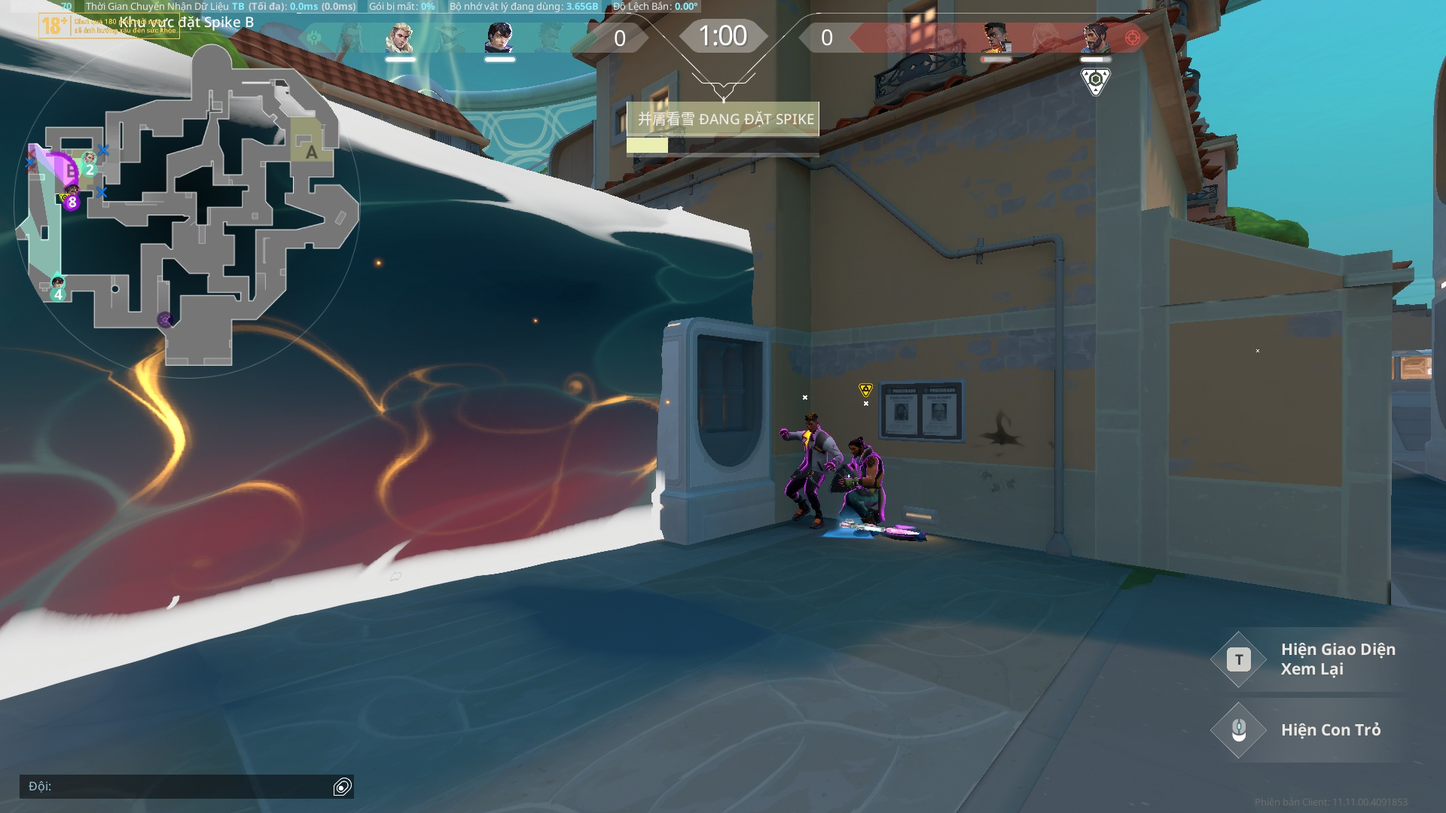body: (850, 454, 890, 490), (797, 429, 832, 470)
head: (847, 440, 868, 458), (804, 413, 821, 430)
